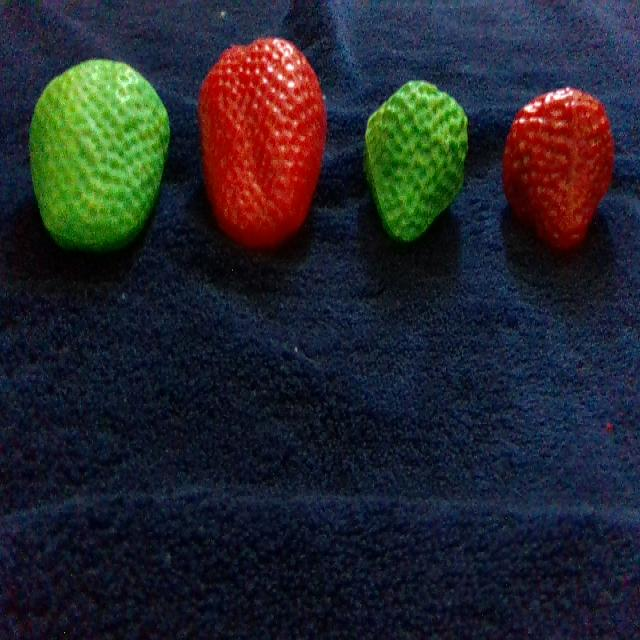chica_roja: (504, 88, 613, 248)
grande_roja: (199, 39, 326, 247)
verde: (30, 60, 169, 251), (366, 81, 467, 239)
